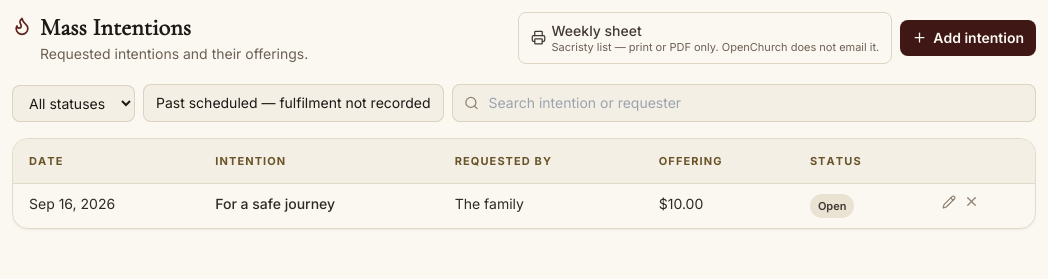
Test: a refused delete says the intention is untouched
Click the button named "Delete intention" at (972, 202), box x1=964 y1=194 x2=979 y2=209
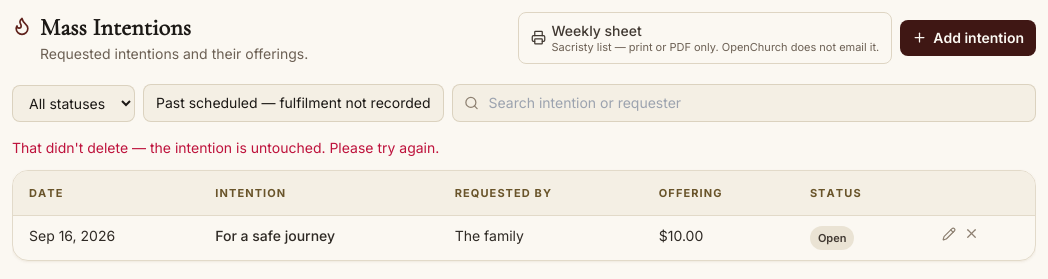
Expected: the text "For a safe journey" is shown, x1=199 y1=216 x2=439 y2=260
Expected: the message reads "That didn't delete — the intention is untouched. Please try again.", x1=12 y1=139 x2=439 y2=156
